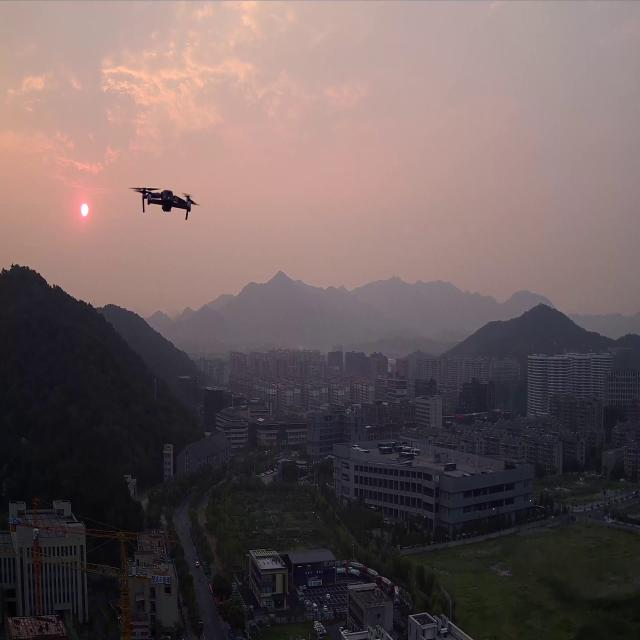UAV: (136, 184, 192, 220)
